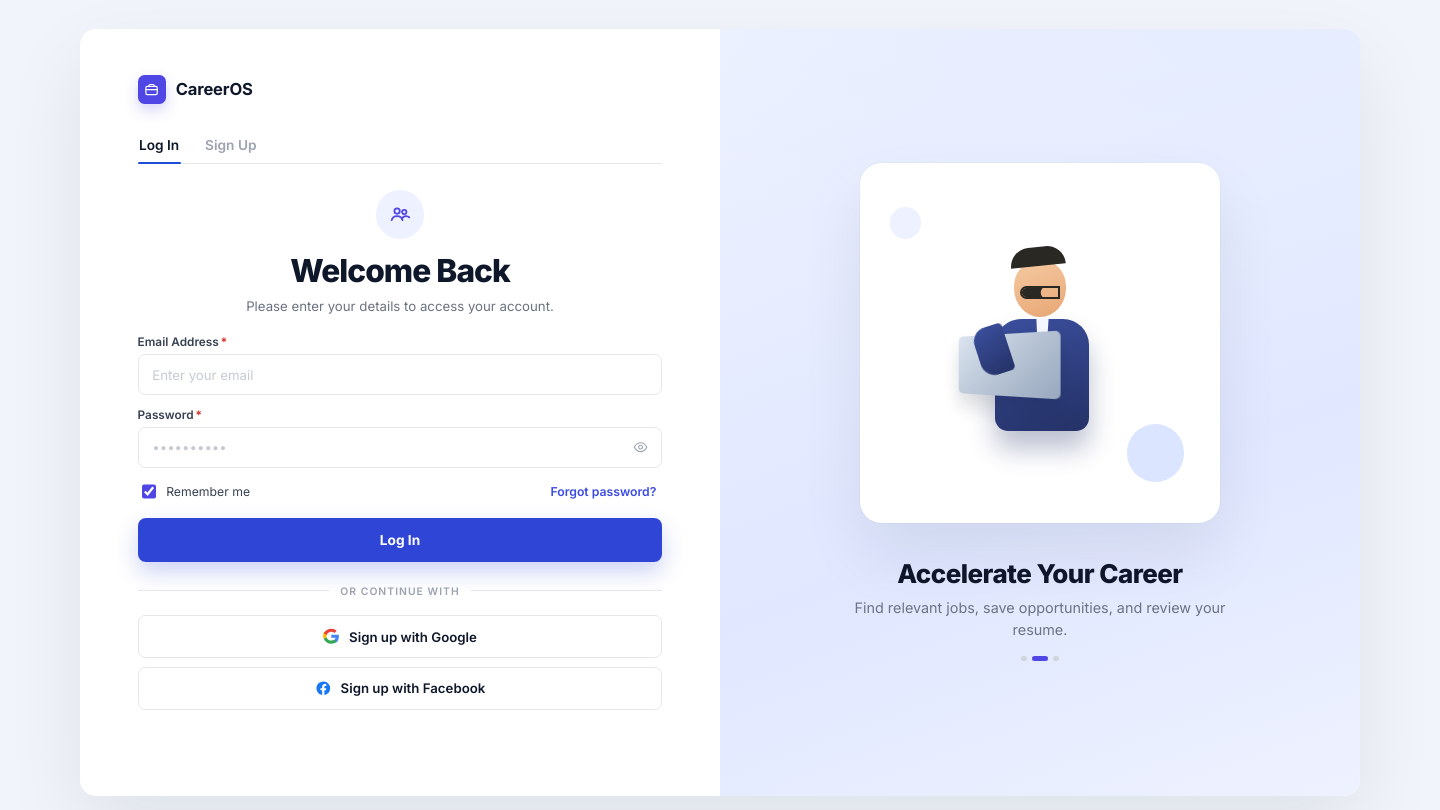
AuthPage — login mode › disables the submit button while submitting
The width and height of the screenshot is (1440, 810).
Step 1. Type "sai" into the field labelled "Email Address*" → (400,375), box [138,354,662,395]
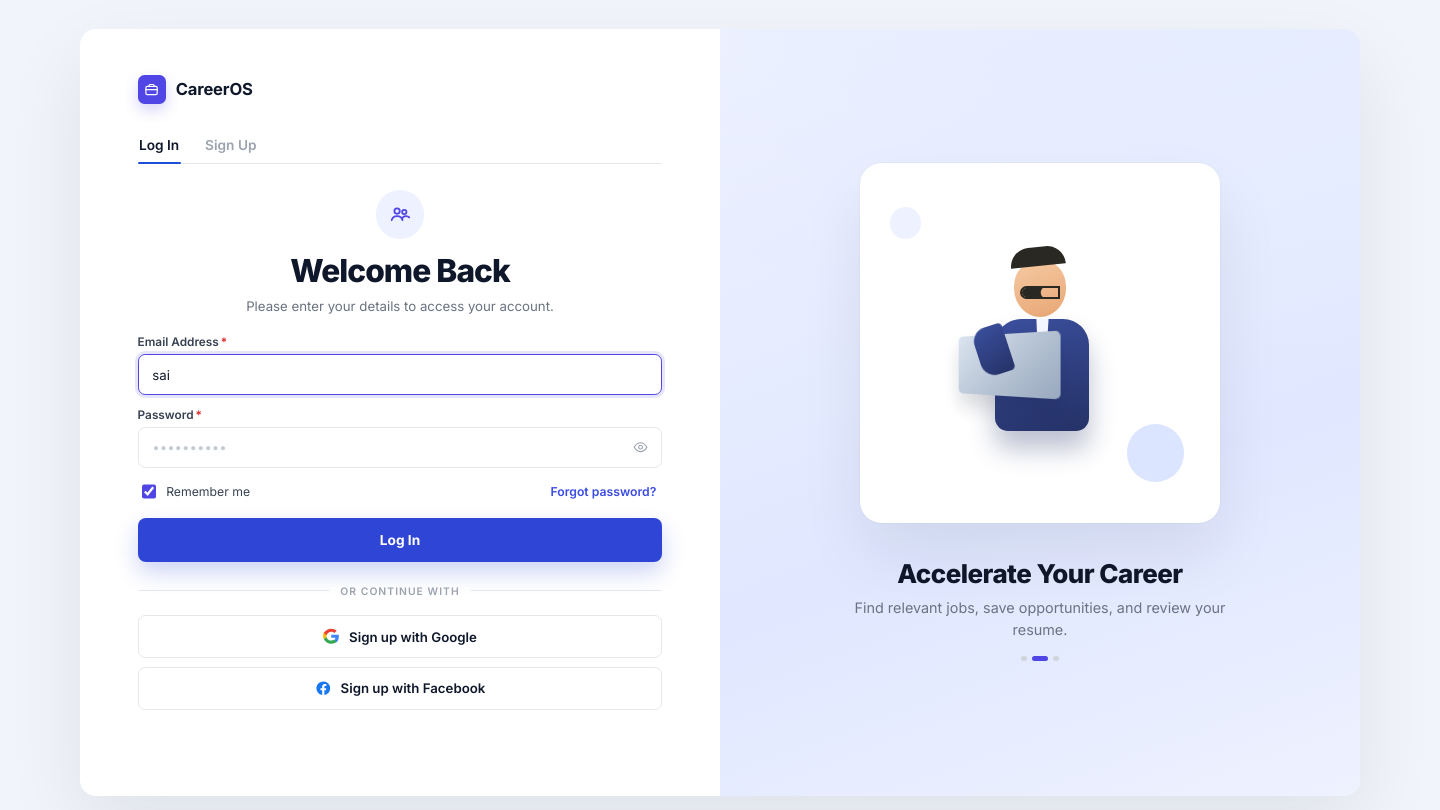
Step 2. Type "pass" into the password field labelled "Password*" → (400,447), box [138,427,662,468]
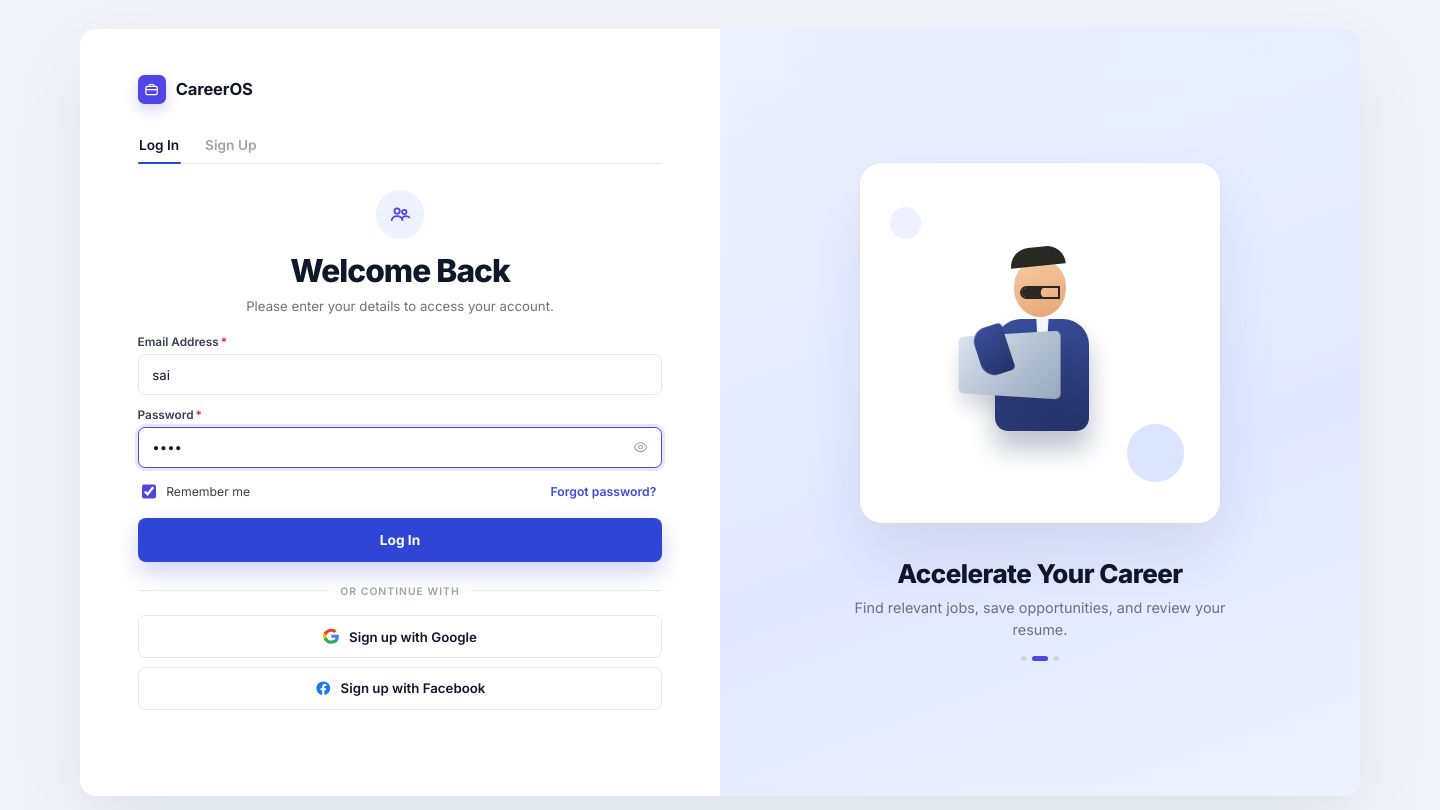
Step 3. Click the submit button → (400,540), box [138,518,662,562]
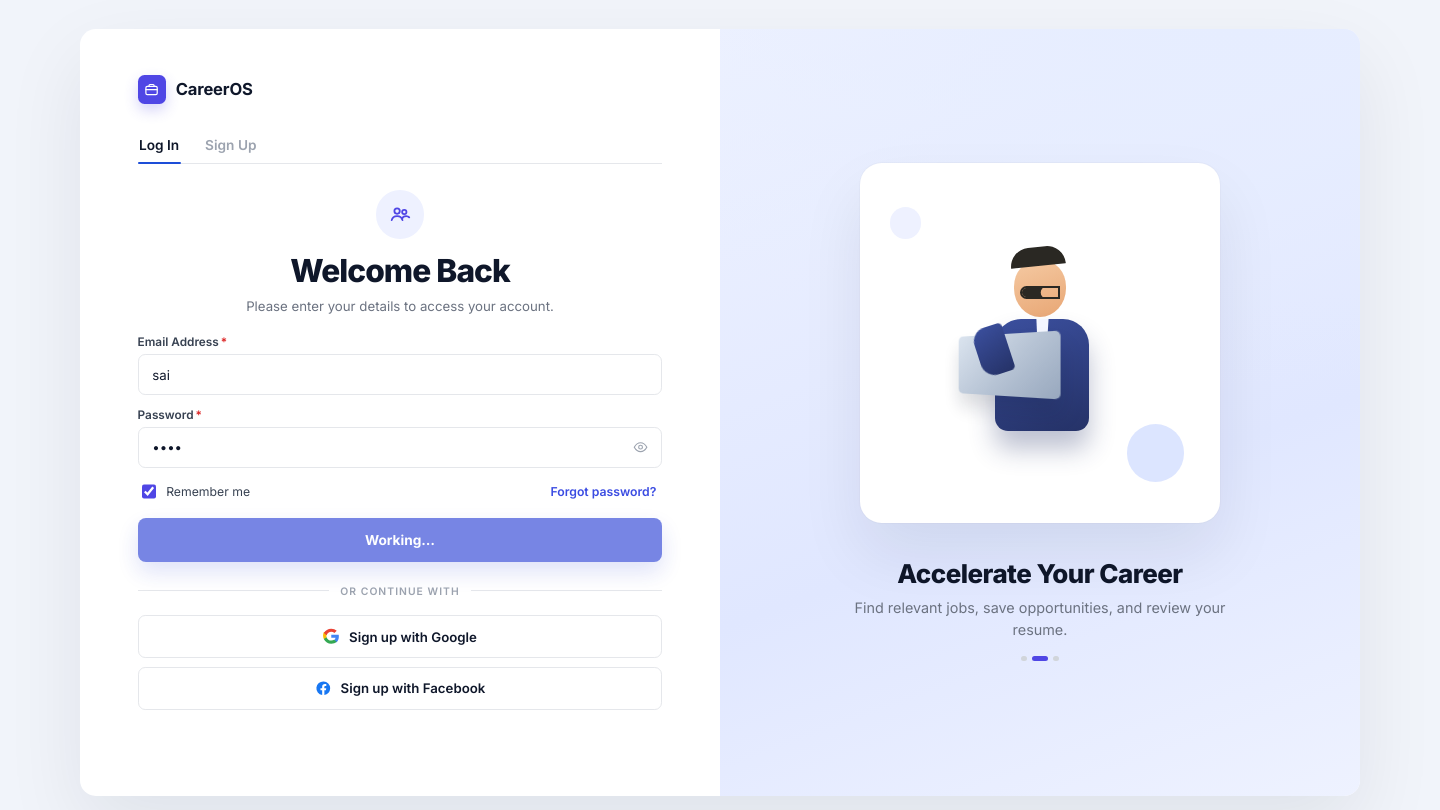
Expected: the button "Working…" is disabled, [138,518,662,562]
